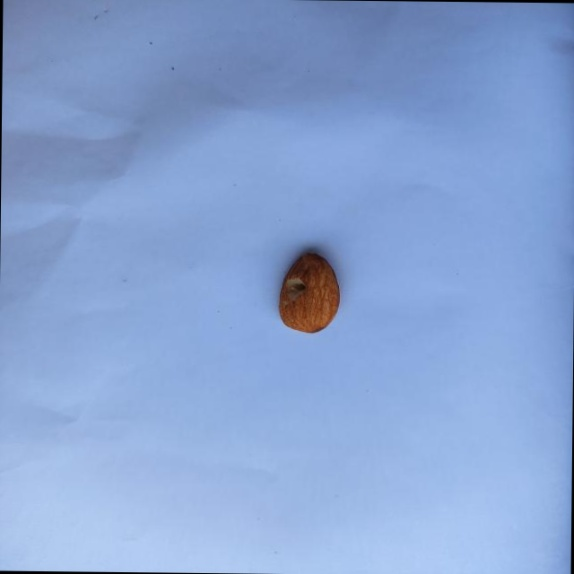grade3: (274, 248, 342, 337)
